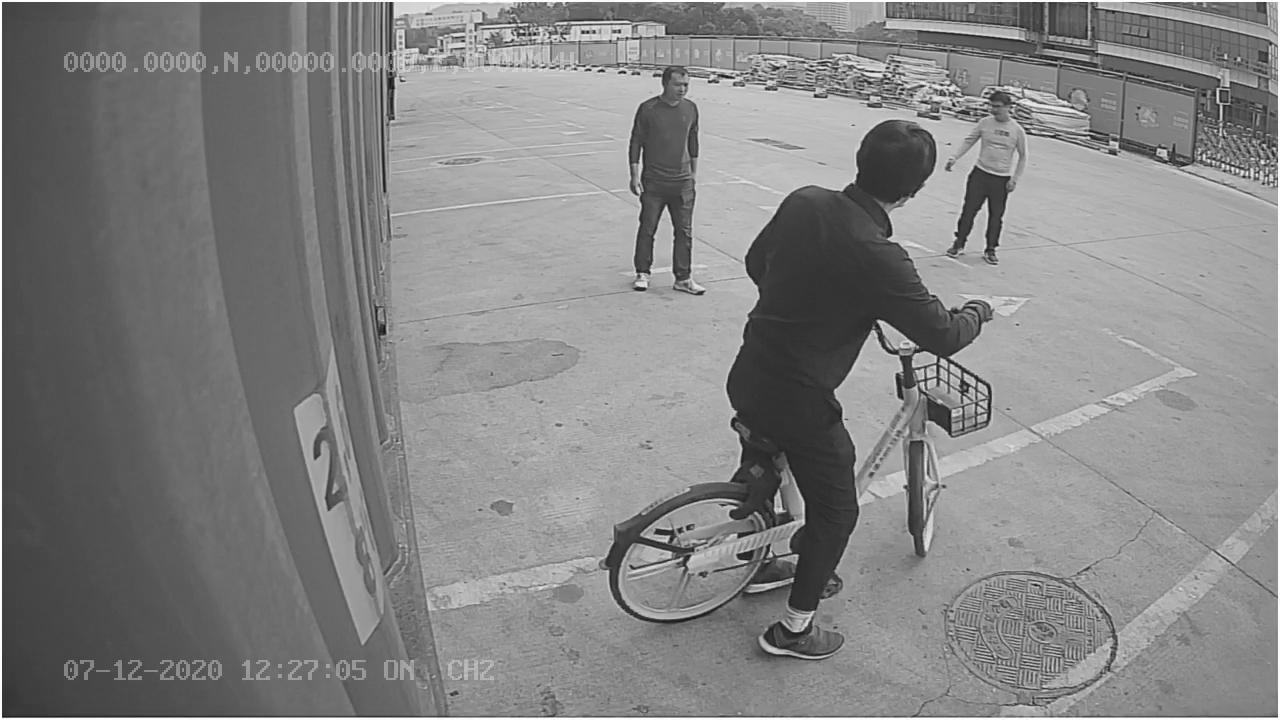person: (623, 60, 712, 301)
